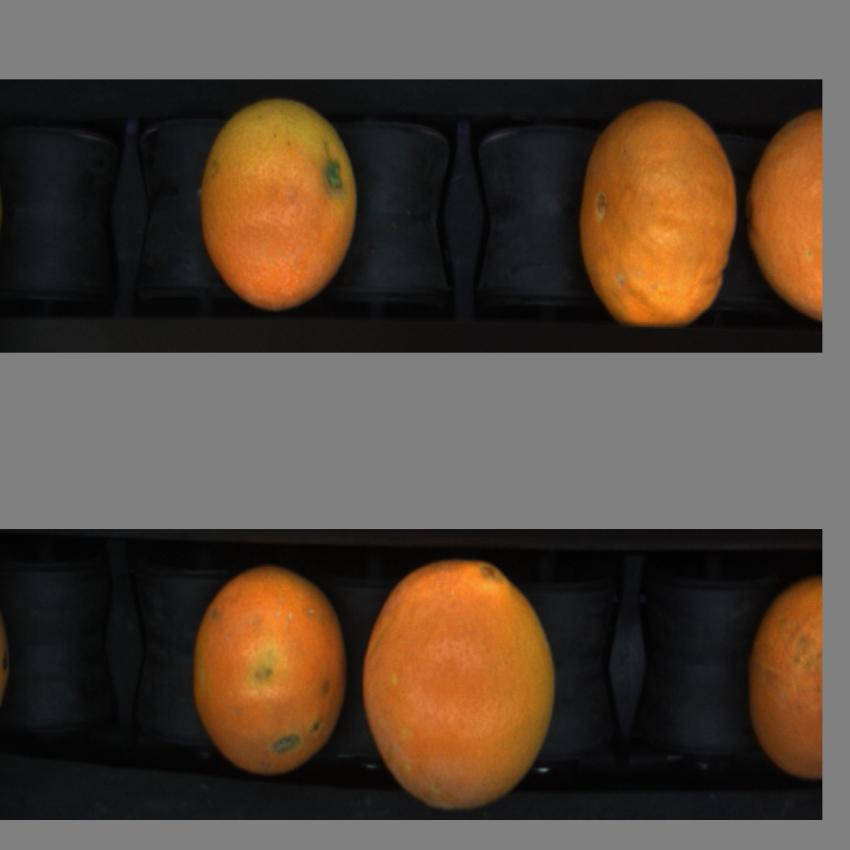Buen estado: (360, 550, 560, 822), (574, 94, 744, 334), (195, 96, 372, 318), (189, 557, 349, 790), (744, 564, 822, 799), (748, 107, 824, 321)
